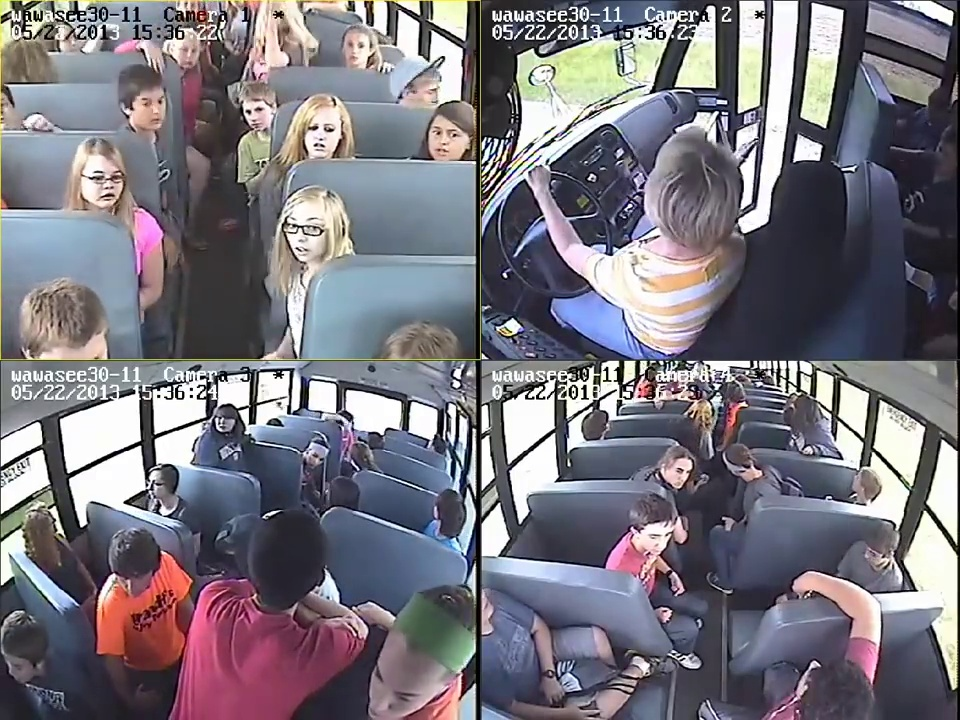face: (369, 642, 423, 720), (78, 155, 125, 211), (283, 204, 328, 258), (425, 117, 473, 161), (302, 113, 343, 155), (130, 89, 166, 129), (409, 71, 443, 111), (636, 520, 673, 556), (240, 96, 274, 134), (665, 454, 690, 491), (344, 30, 370, 63), (147, 469, 173, 501), (172, 43, 202, 70), (212, 407, 238, 436), (307, 443, 327, 469), (867, 545, 888, 569)
